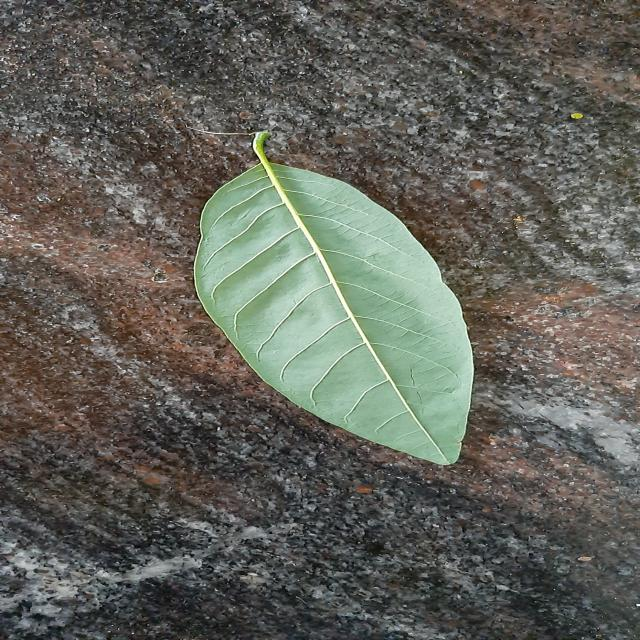seethaphala: (195, 132, 471, 465)
